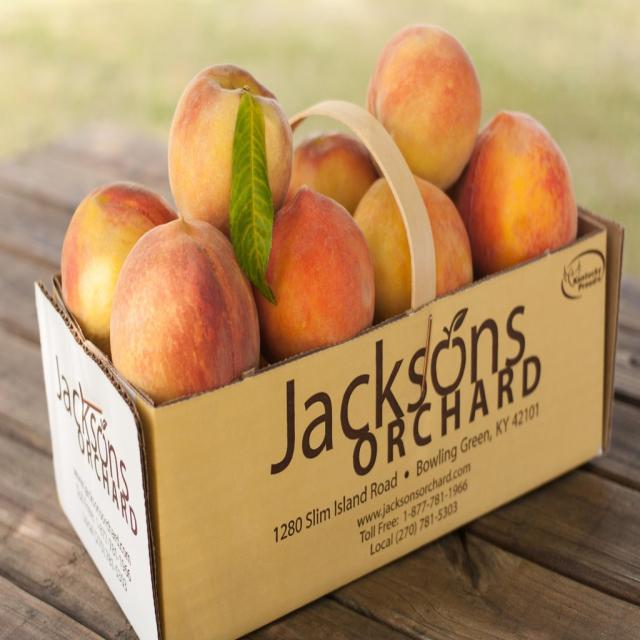Peach: (60, 24, 577, 406)
